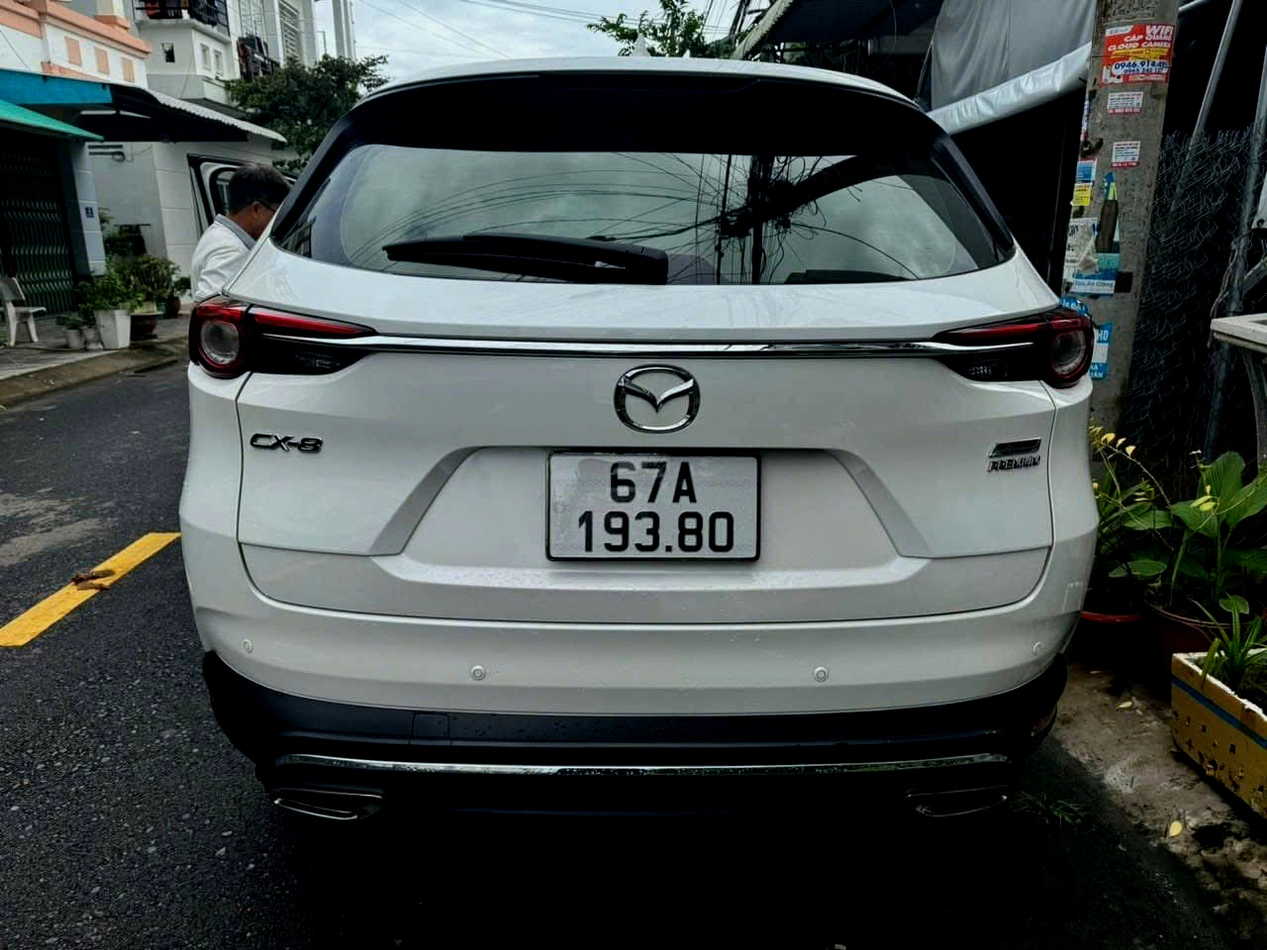Bien-so: (541, 448, 768, 567)
